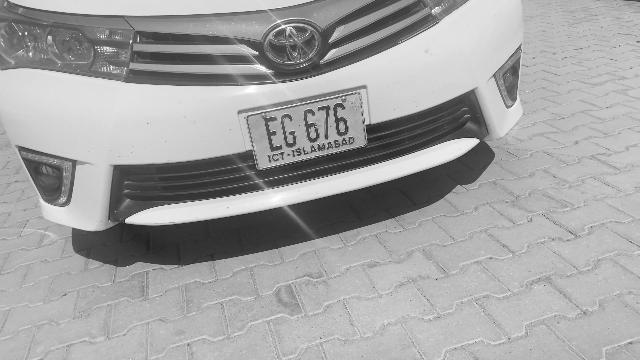Number: (261, 99, 354, 155)
